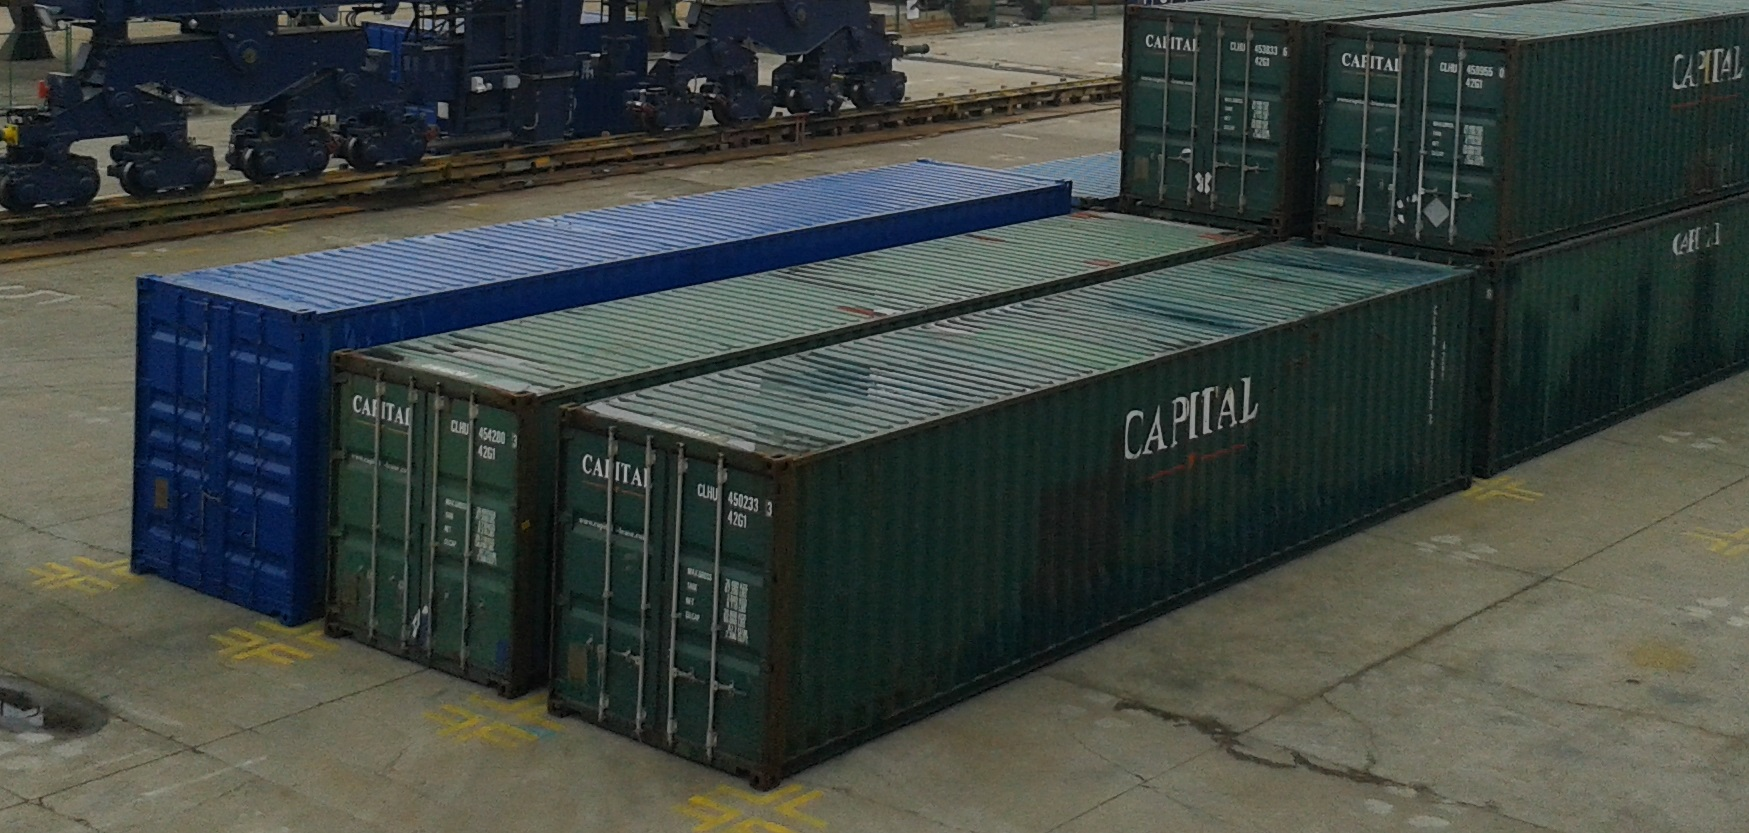container_door: (549, 401, 783, 794), (321, 343, 518, 726), (131, 271, 303, 635), (1322, 23, 1495, 264), (1120, 6, 1298, 236)
